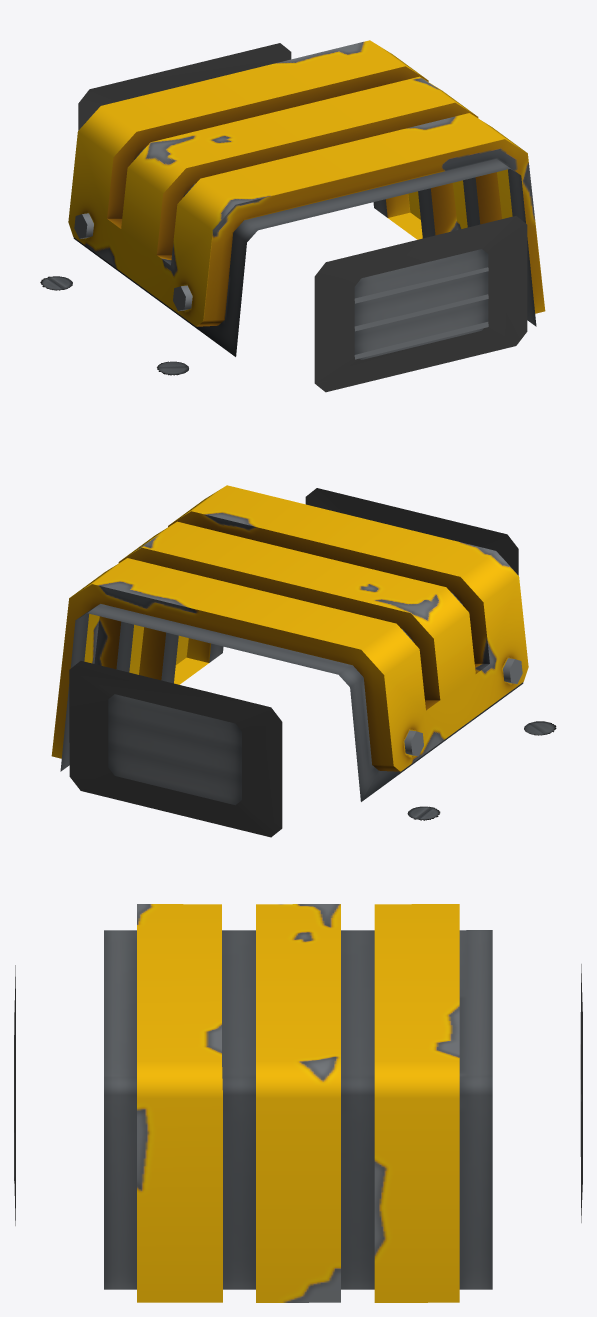
The model's file is env_ruin_container_03_lod1.fbx.
The picture shows the model from 3 angles, top to bottom: view 1: azimuth 30°, elevation 25°; view 2: azimuth 150°, elevation 25°; view 3: azimuth 270°, elevation 25°; orthographic projection. The views are drawn at different scales.
Parts seen in each view (by area): view 1: env_ruin_container_03_lod1; view 2: env_ruin_container_03_lod1; view 3: env_ruin_container_03_lod1.
Boxes of the visible parts, x1=… form: env_ruin_container_03_lod1: x1=40, y1=40, x2=545, y2=392; env_ruin_container_03_lod1: x1=51, y1=485, x2=556, y2=837; env_ruin_container_03_lod1: x1=14, y1=904, x2=582, y2=1302.
Size of the model in its own units: 33.55 by 14.88 by 35.16.
